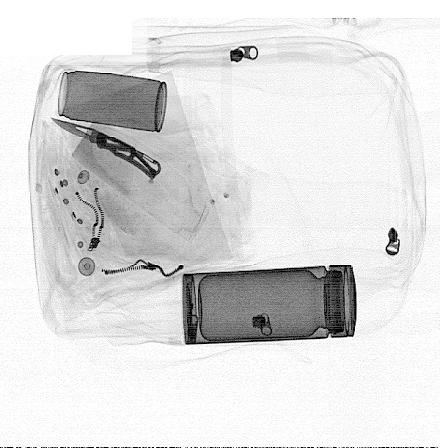Knife: (50, 117, 161, 181)
